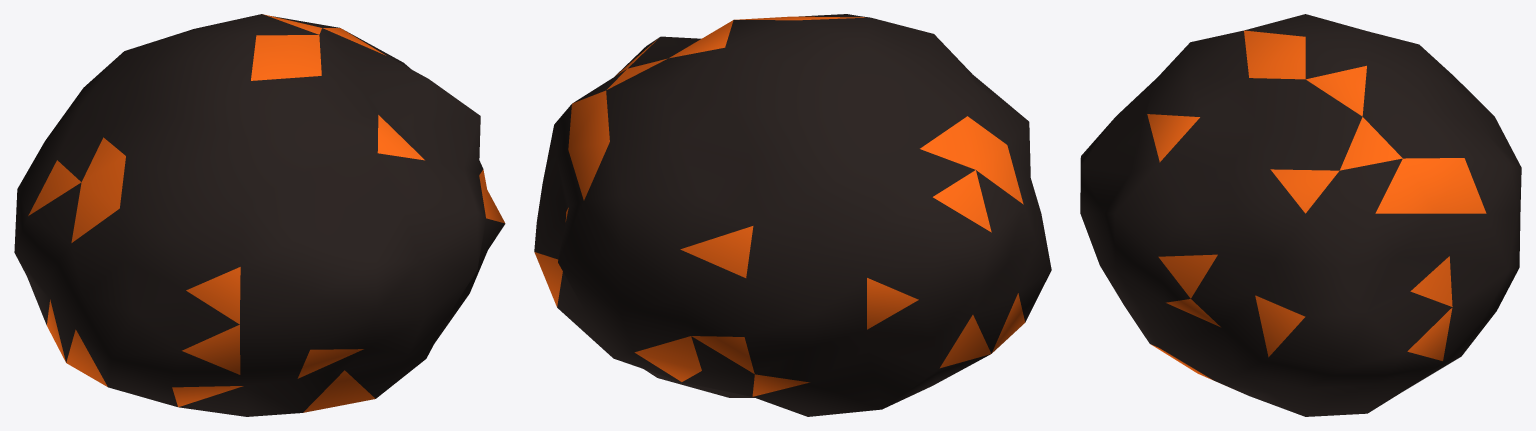
File: roca_volcanica.obj
3 views of the same model, side by side, from view 1: azimuth 30°, elevation 25°; view 2: azimuth 150°, elevation 25°; view 3: azimuth 270°, elevation 25° (orthographic). The views are drawn at different scales.
Visible parts, largest first — view 1: Roca_Volcanica; view 2: Roca_Volcanica; view 3: Roca_Volcanica.
Boxes of the visible parts, x1,y1,x2,y2 form: Roca_Volcanica: (14, 14, 505, 416); Roca_Volcanica: (534, 14, 1051, 416); Roca_Volcanica: (1080, 14, 1521, 416).
Bounding box in the file's own units: 1.25 × 0.98 × 1.15.
